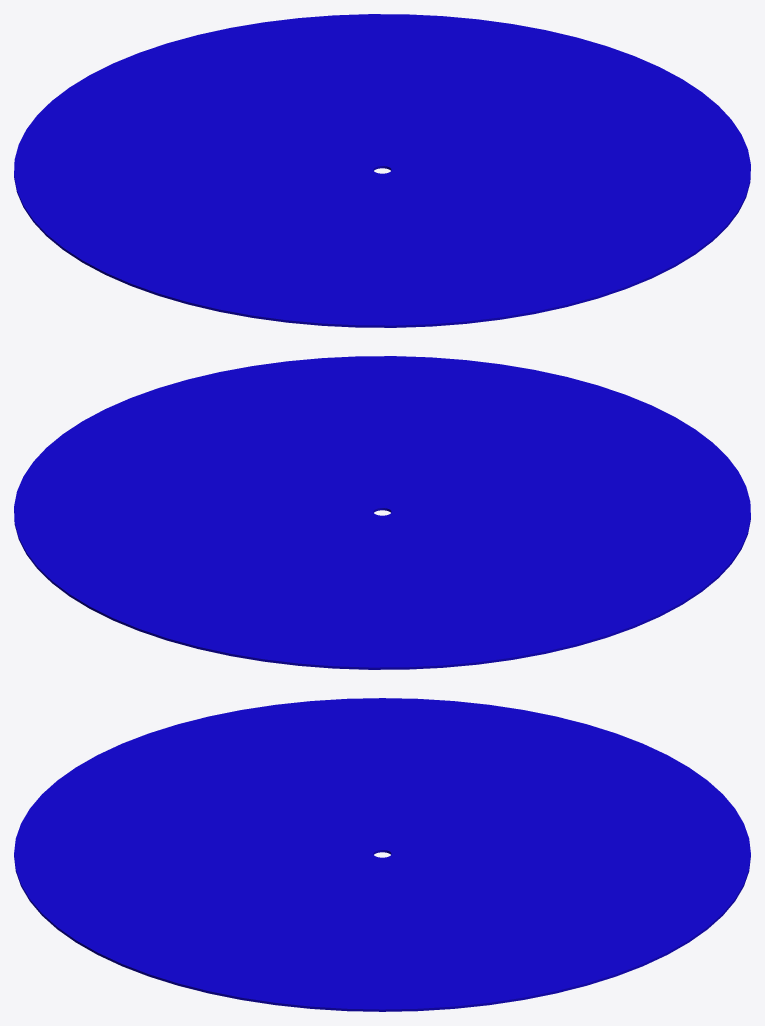
Rendered from IgorVinyl1.gltf.
3 views of the same model, one above another, from view 1: azimuth 30°, elevation 25°; view 2: azimuth 150°, elevation 25°; view 3: azimuth 270°, elevation 25° (orthographic).
Visible parts, largest first — view 1: 33_1-3_Record; view 2: 33_1-3_Record; view 3: 33_1-3_Record.
Part boxes in pixels (bbox=[...]): 33_1-3_Record: bbox=[14, 14, 750, 327]; 33_1-3_Record: bbox=[14, 356, 750, 669]; 33_1-3_Record: bbox=[14, 698, 750, 1011].
Size of the model in its own units: 0.3 by 0.00105 by 0.3.
